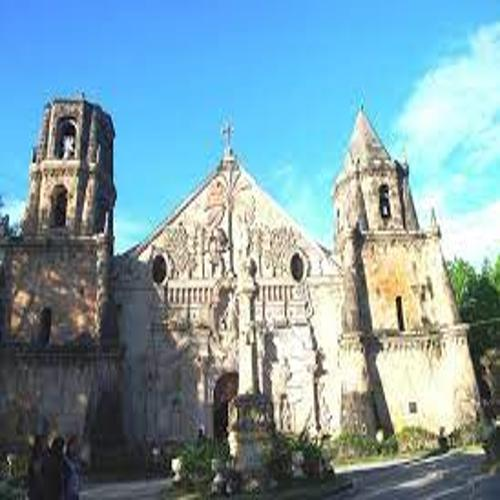Miagao Church: (10, 82, 488, 447)
